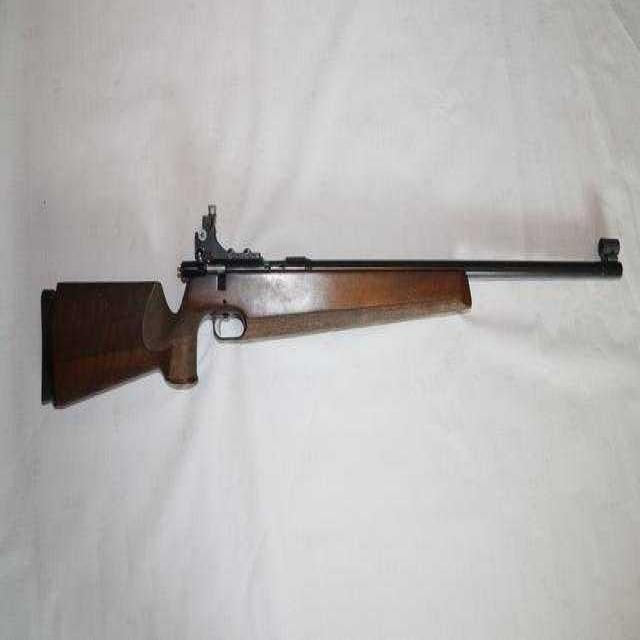weapon: (27, 187, 639, 465)
